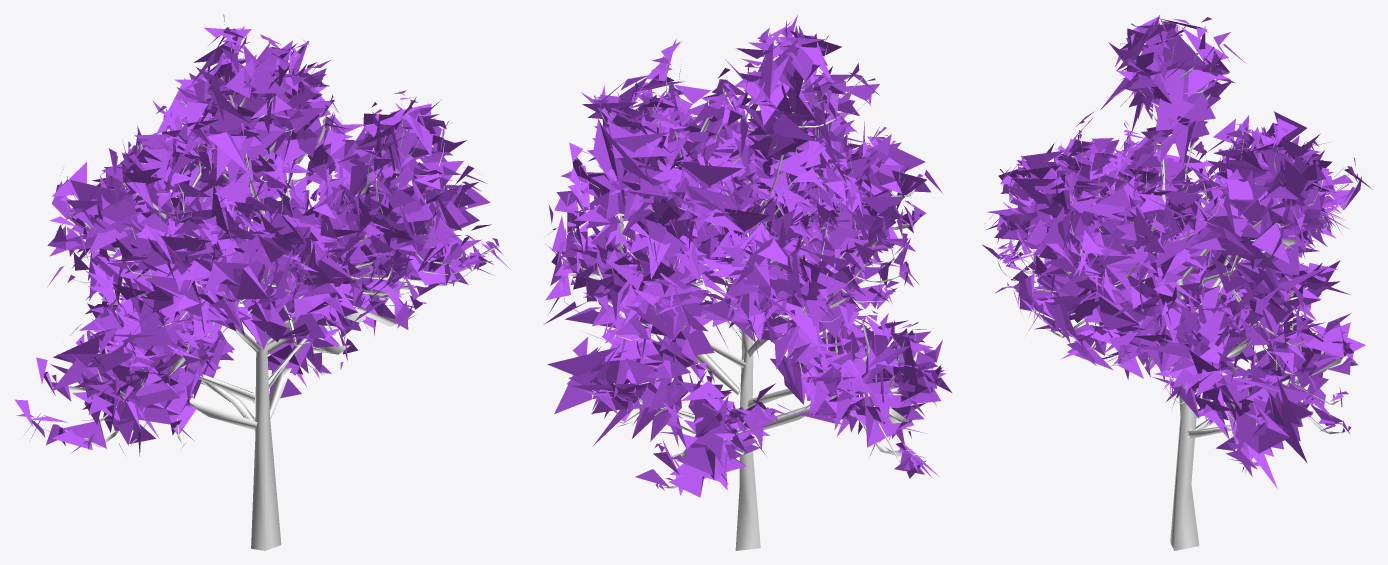
The model's file is Tree1.fbx.
The picture shows the model from 3 angles, left to right: view 1: azimuth 30°, elevation 25°; view 2: azimuth 150°, elevation 25°; view 3: azimuth 270°, elevation 25°; orthographic projection. The views are drawn at different scales.
Parts seen in each view (by area): view 1: Leaves3Bake.001, Tree3.001; view 2: Leaves3Bake.001, Tree3.001; view 3: Leaves3Bake.001, Tree3.001.
Part boxes in pixels (x1,y1,x2,y2): Leaves3Bake.001: (15, 14, 510, 456); Tree3.001: (33, 27, 497, 550); Leaves3Bake.001: (543, 15, 951, 497); Tree3.001: (556, 37, 940, 550); Leaves3Bake.001: (982, 15, 1372, 488); Tree3.001: (996, 23, 1354, 550).
Bounding box in the file's own units: 856 × 995 × 688.
2 materials, 1 textured.
